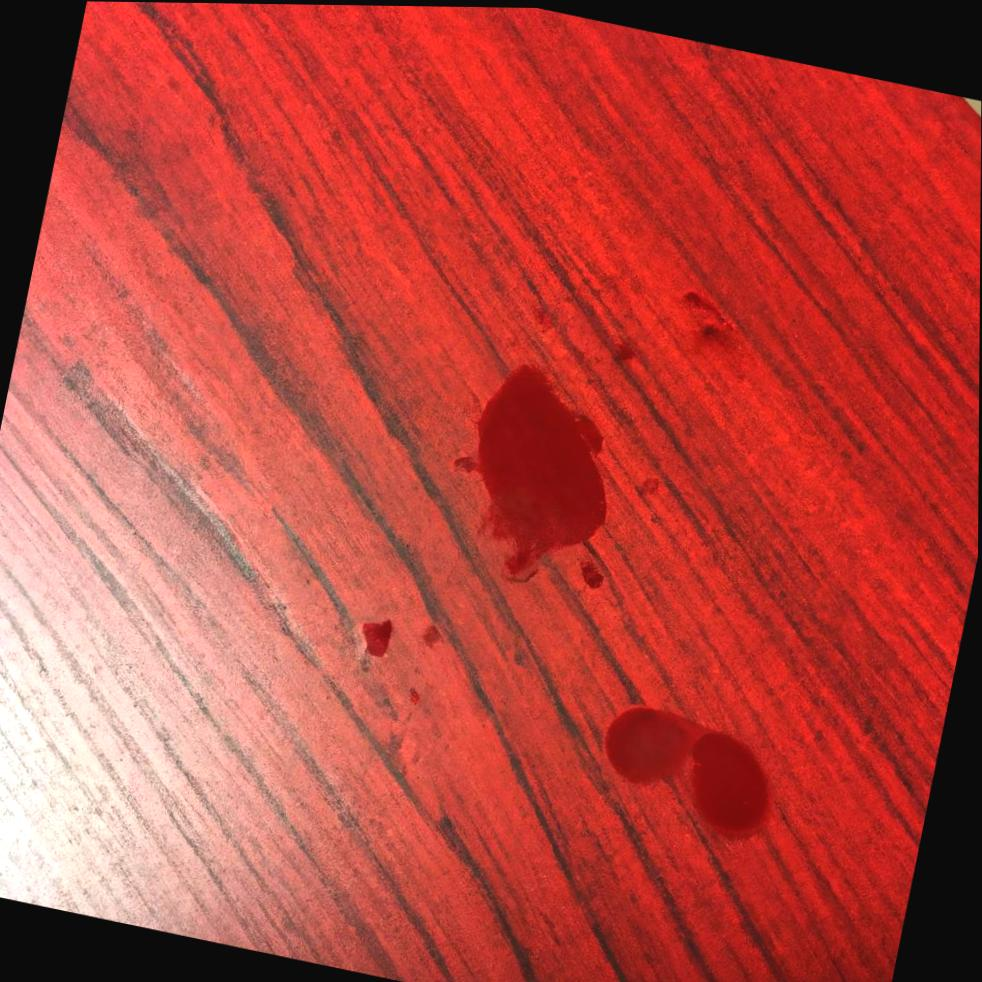Fire: (453, 362, 608, 573), (683, 288, 734, 330), (363, 617, 395, 656), (580, 557, 605, 586), (424, 621, 442, 646), (614, 339, 636, 358), (701, 321, 727, 334)
